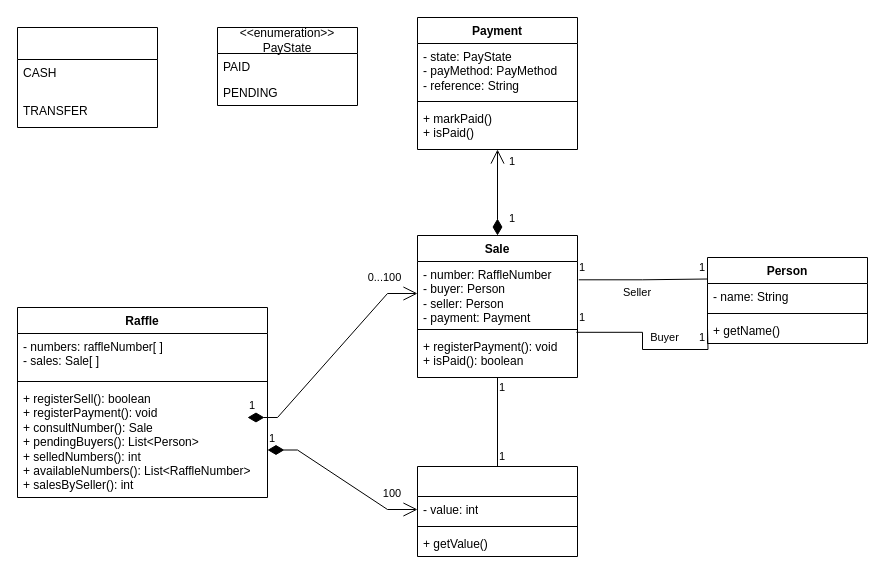
Image size: 885x577. Some labels were removed from this diagram. The box of each missing label's shape, as (x1, y1, x2, y2) in pixels:
<<enumeration>> PayMethod: (16, 26, 158, 128)
Number: (416, 466, 578, 556)
